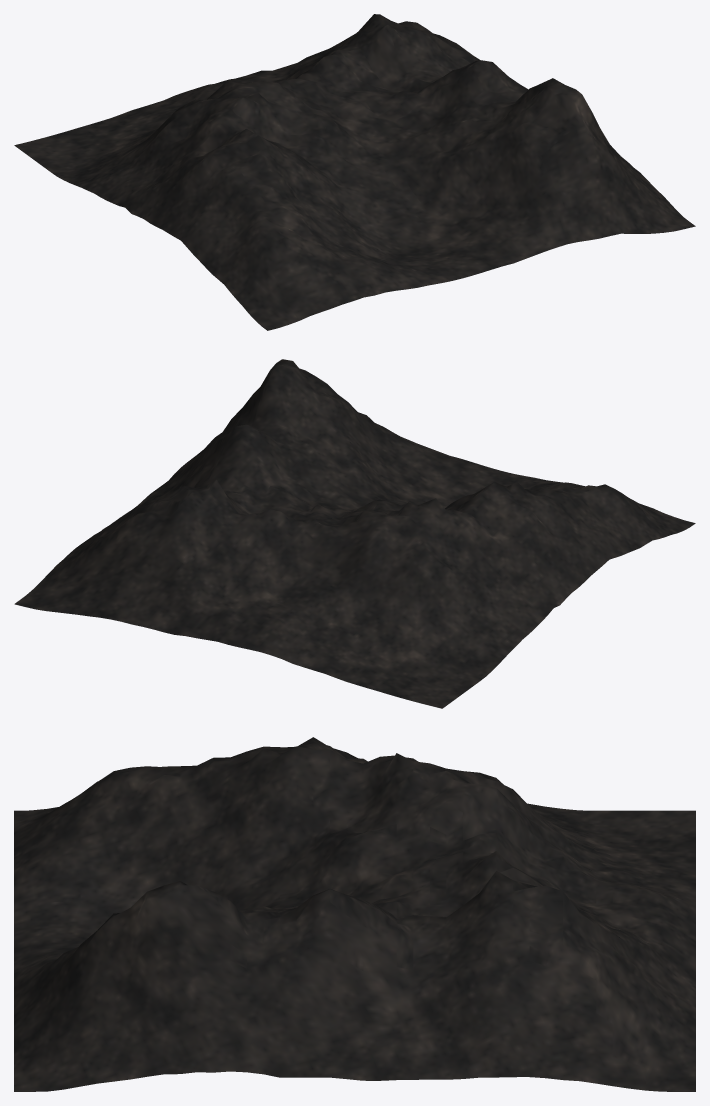
The model's file is Landscape2.fbx.
3 renders of one model, top to bottom at view 1: azimuth 30°, elevation 25°; view 2: azimuth 150°, elevation 25°; view 3: azimuth 270°, elevation 25°, orthographic. The views are drawn at different scales.
Parts seen in each view (by area): view 1: Landscape2; view 2: Landscape2; view 3: Landscape2.
Boxes of the visible parts, x1,y1,x2,y2 form: Landscape2: [14, 14, 695, 330]; Landscape2: [14, 359, 695, 708]; Landscape2: [14, 737, 695, 1091].
Size of the model in its own units: 1.7 by 0.4443 by 1.74.
Materials: 1 (1 with a texture image).
